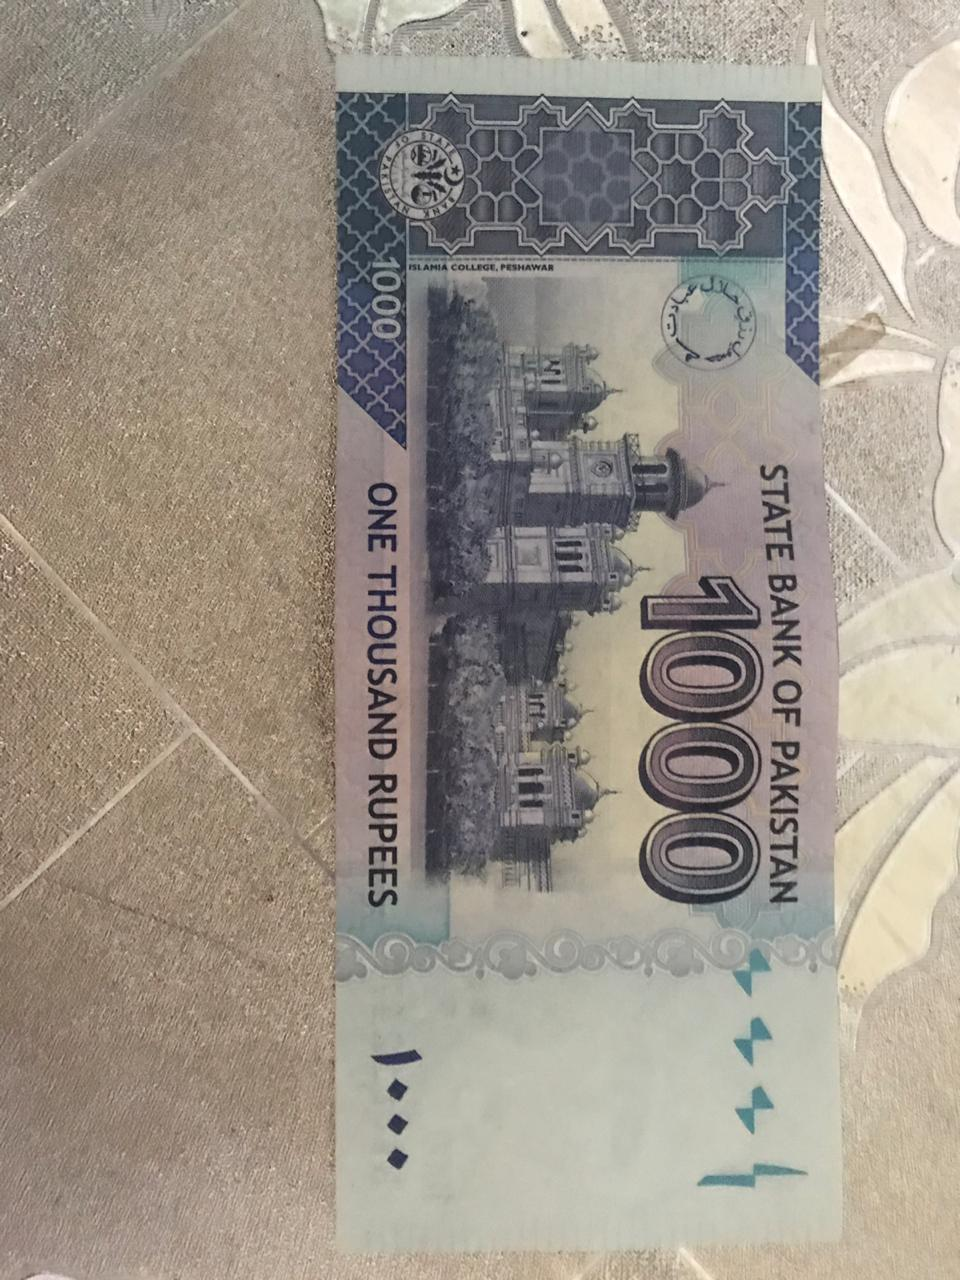1000 rupee: (314, 65, 848, 1234)
